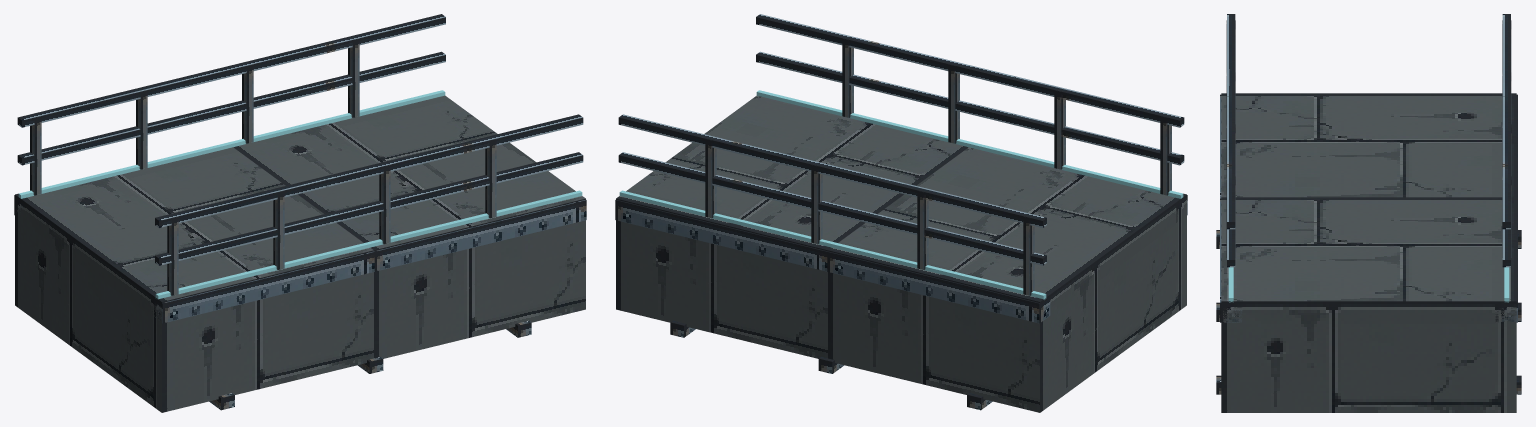
File: bridge_span_4.glb
3 renders of one model, left to right at view 1: azimuth 30°, elevation 25°; view 2: azimuth 150°, elevation 25°; view 3: azimuth 270°, elevation 25°, orthographic.
Parts seen in each view (by area): view 1: bridge_span_4; view 2: bridge_span_4; view 3: bridge_span_4.
Part boxes in pixels (box(x1,y1,x2,y2)): bridge_span_4: box(14, 14, 586, 412); bridge_span_4: box(615, 14, 1187, 412); bridge_span_4: box(1216, 14, 1521, 412).
Size of the model in its own units: 4 by 1.8 by 2.48.
2 materials, 1 textured.
